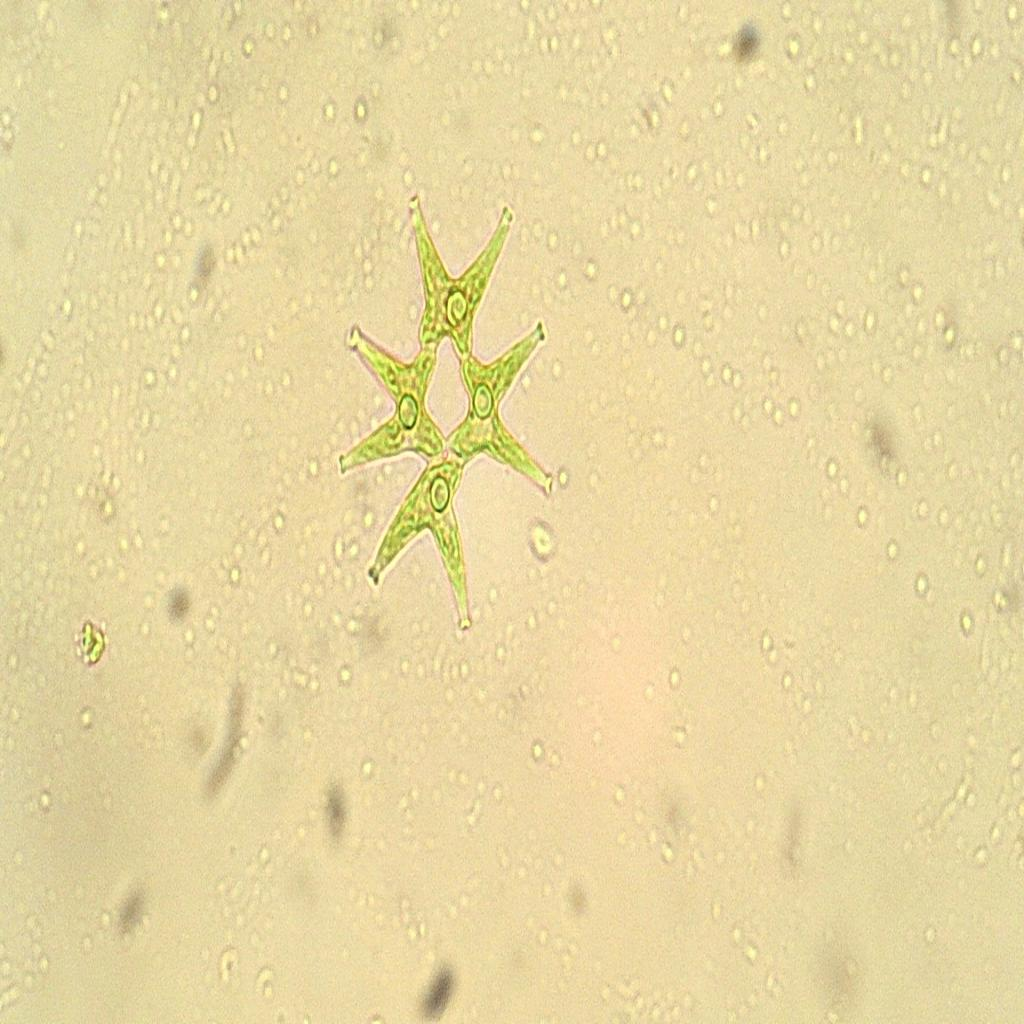Pediastrum_75FI: (324, 166, 566, 664)
